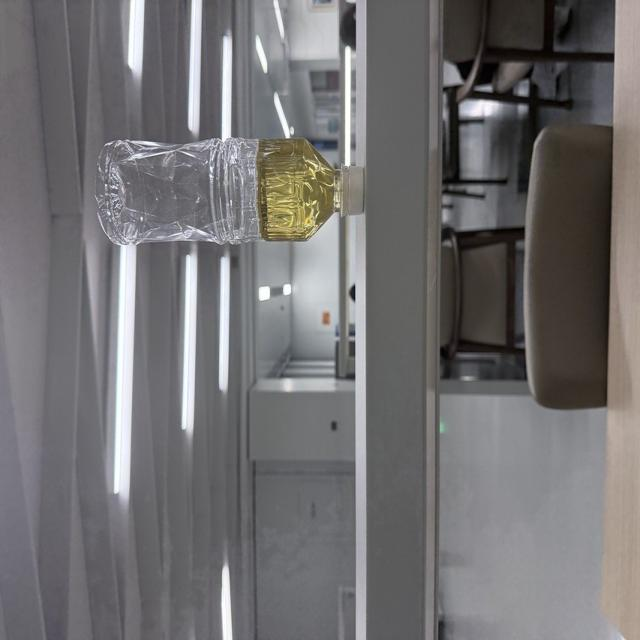low: (95, 138, 363, 245), (258, 138, 341, 239)
